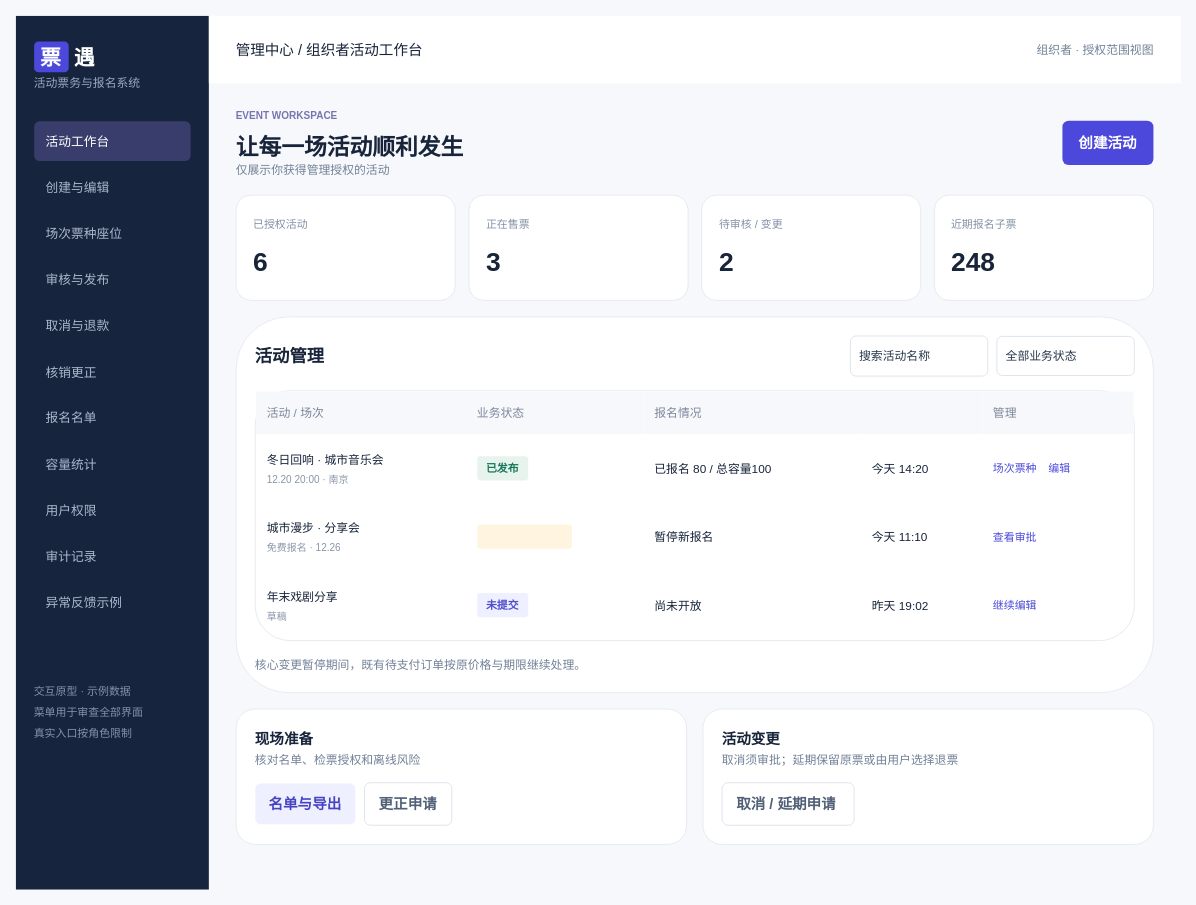
Some shapes in this 1196 by 905 pixel diagram are drawn without their labels. Here are the shapes that lost their labels. From the top down, the centre of each, then its label:
At point 921,412: "最近操作".
At point 524,536: "核心变更待审核".
